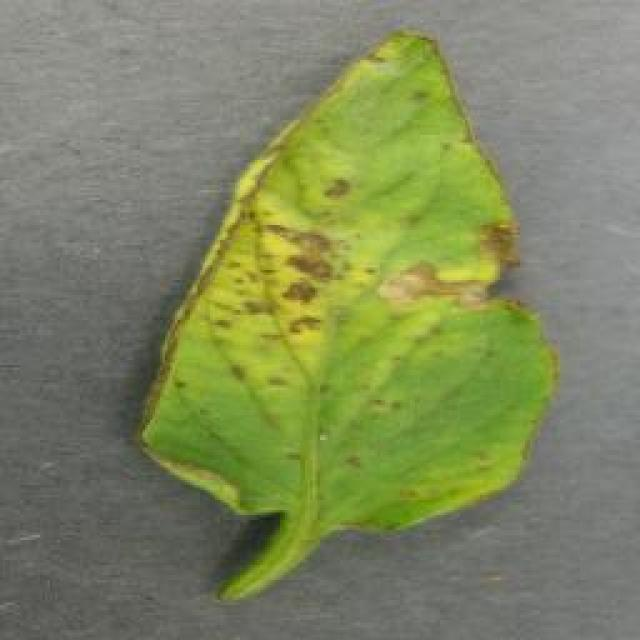Tomato bacterial spot leaf: (138, 14, 562, 534)
